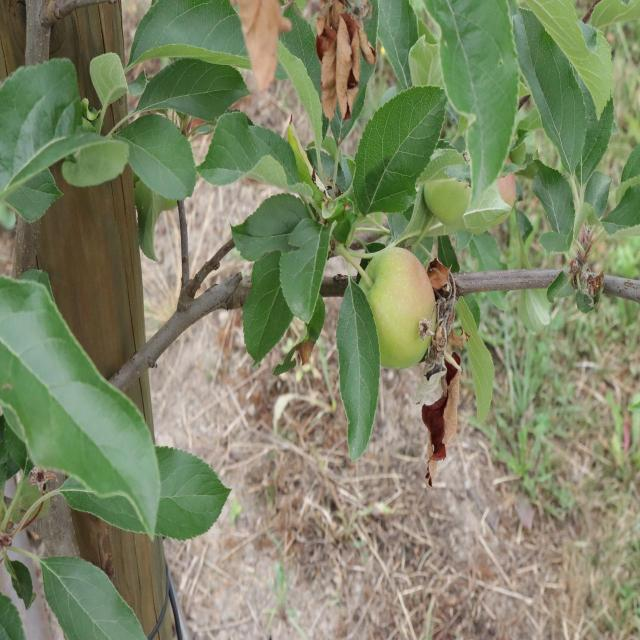-FireBlight-: (306, 0, 384, 123), (420, 329, 467, 493)
